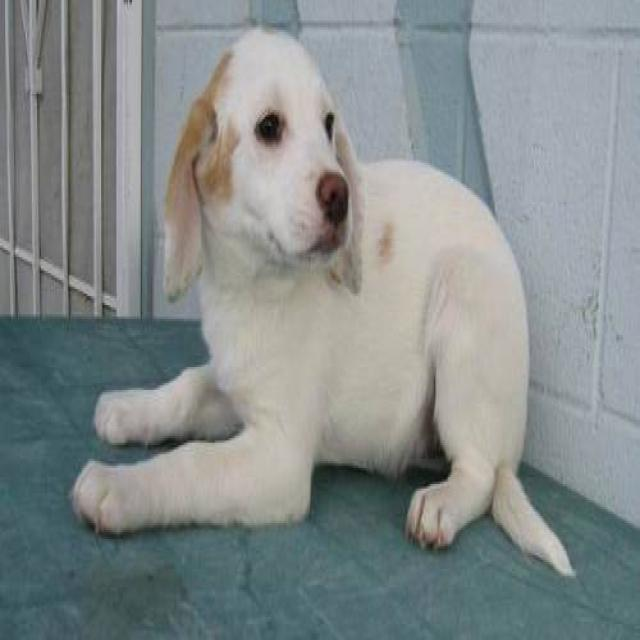dog: (69, 23, 577, 578)
